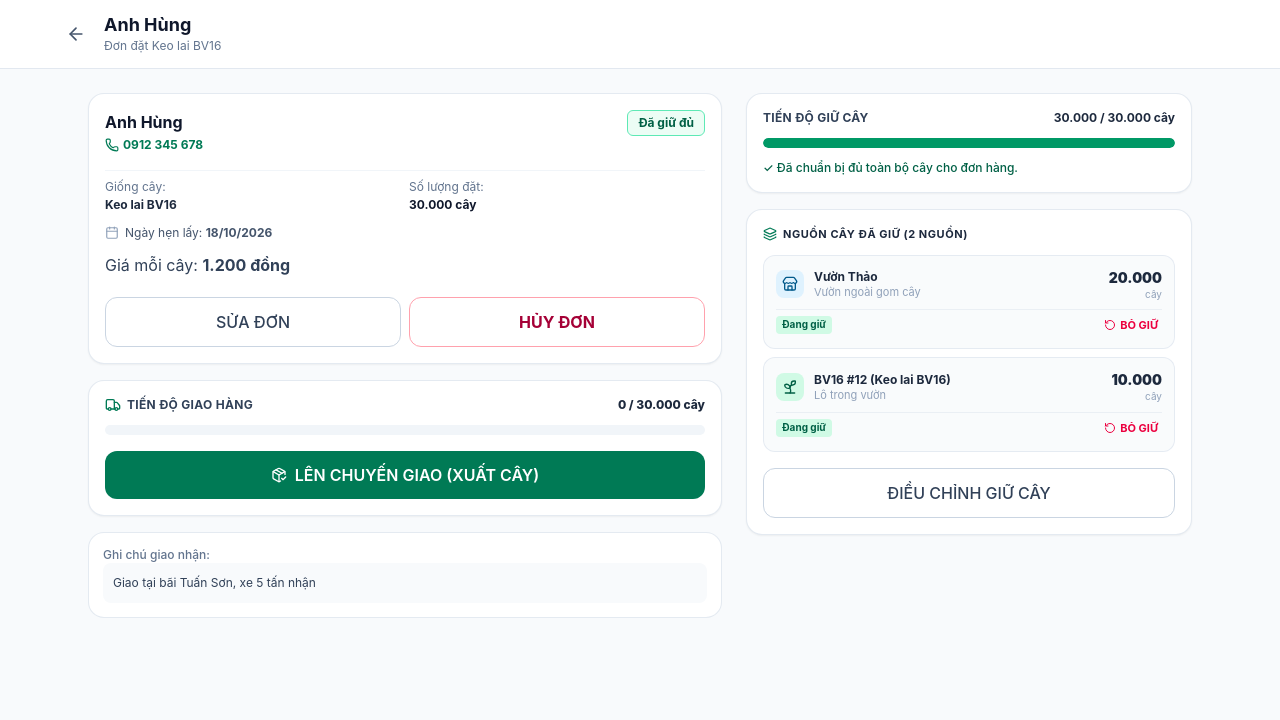
Test: OrderDetailScreen › allows releasing a reservation directly from order detail
expect the text "Đã giữ đủ" is shown: met, box [627,110,705,136]
What coordinates should you click on to do the following:
click the button "BỎ GIỮ" below "Vườn ngoài gom cây"
I would click on:
 (1131, 325)
Its box is [1100,314,1162,336].
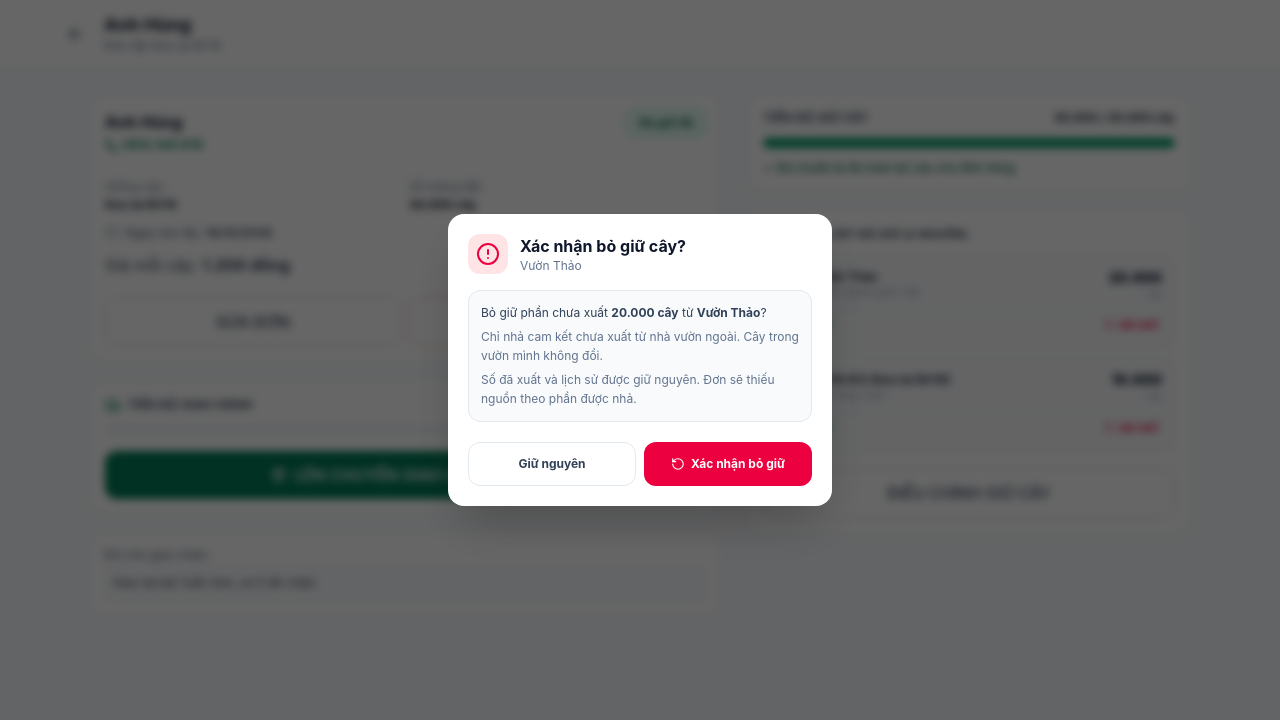
expect the heading "Xác nhận bỏ giữ cây?" is shown: met, box [520,234,686,258]
What coordinates should you click on to do the following:
click the button "Xác nhận bỏ giữ"
I would click on:
 (728, 464)
Its box is [644,442,812,486].
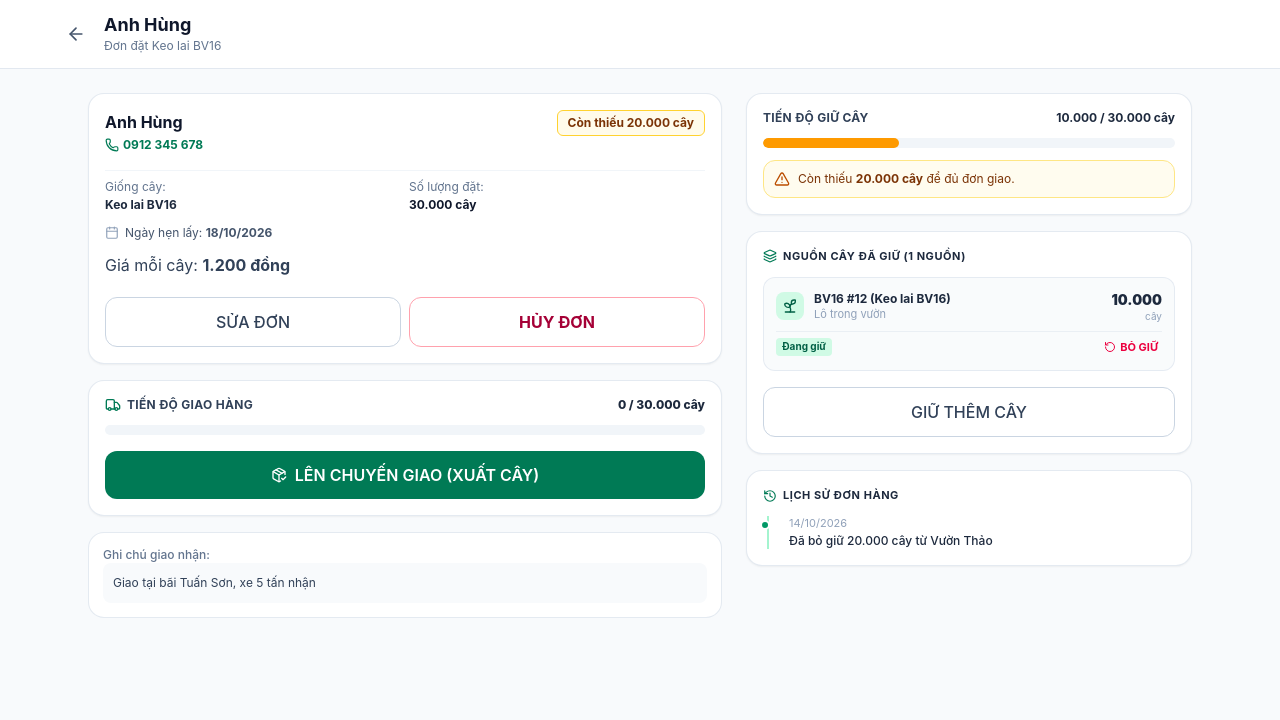
expect the text "Còn thiếu 20.000 cây" is shown: met, box [557,110,705,136]
